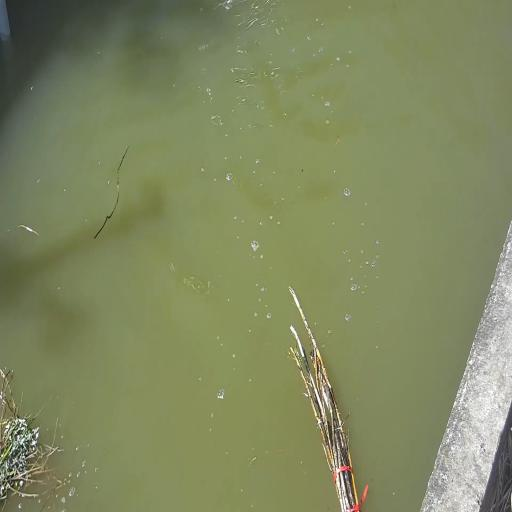twig: (284, 279, 373, 512), (0, 361, 65, 512)
